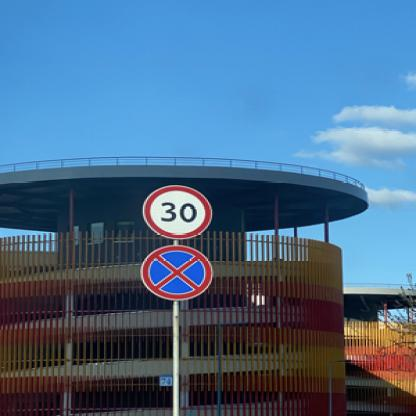speedlimit: (142, 184, 210, 238)
